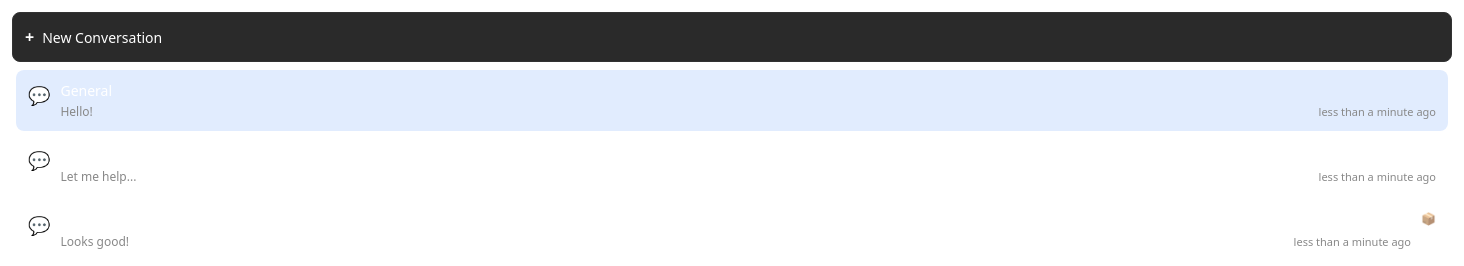
Test: ConversationList › shows action menu on hover (desktop)
The width and height of the screenshot is (1464, 266).
Hover over the text "General": (732, 100) [16,70,1448,131]
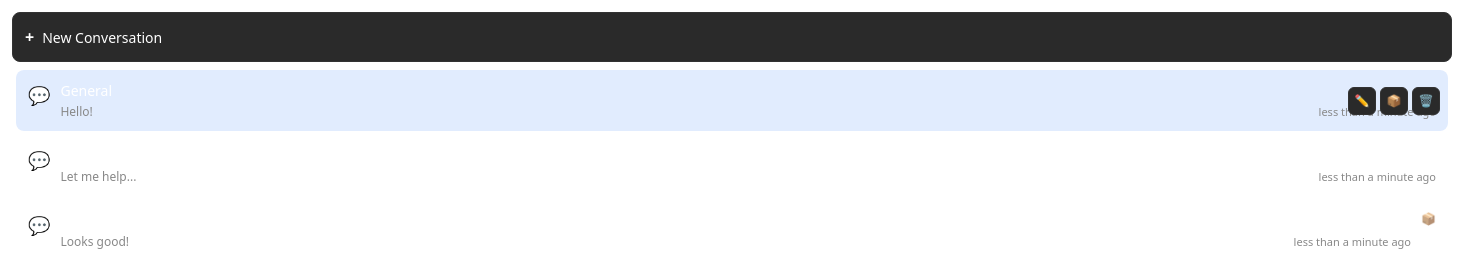
Now the button named "Rename conversation" is shown, box [1348,86,1376,114]
Now the button named "Archive" is shown, box [1380,86,1408,114]
Now the button named "Delete conversation" is shown, box [1412,86,1440,114]
